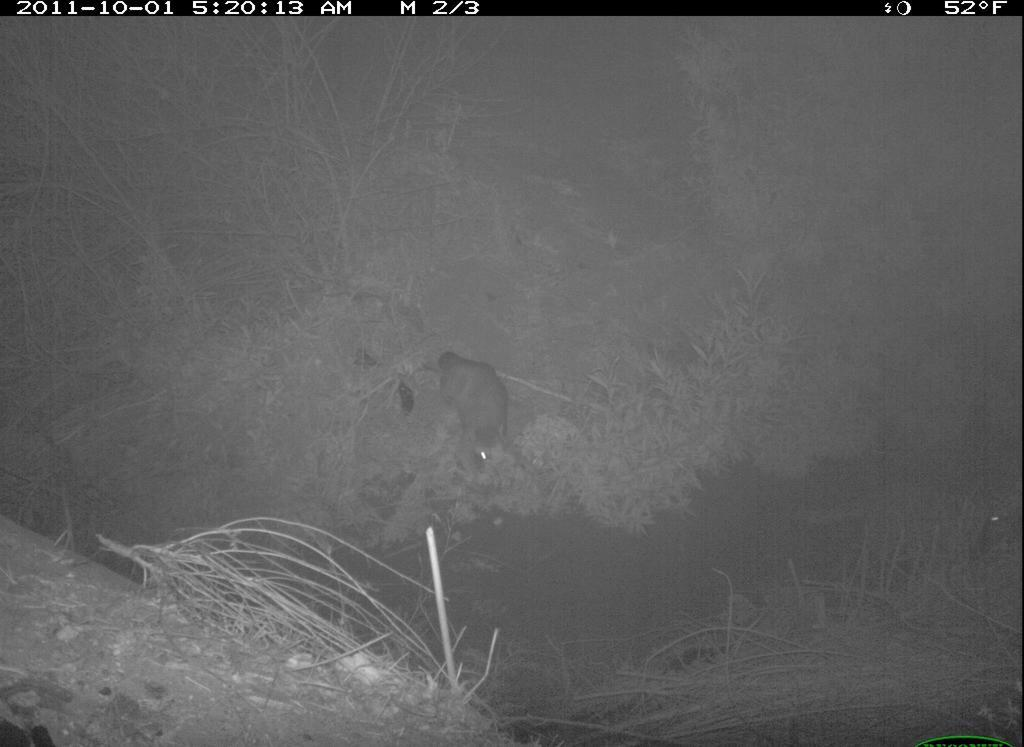raccoon: (414, 333, 545, 527)
